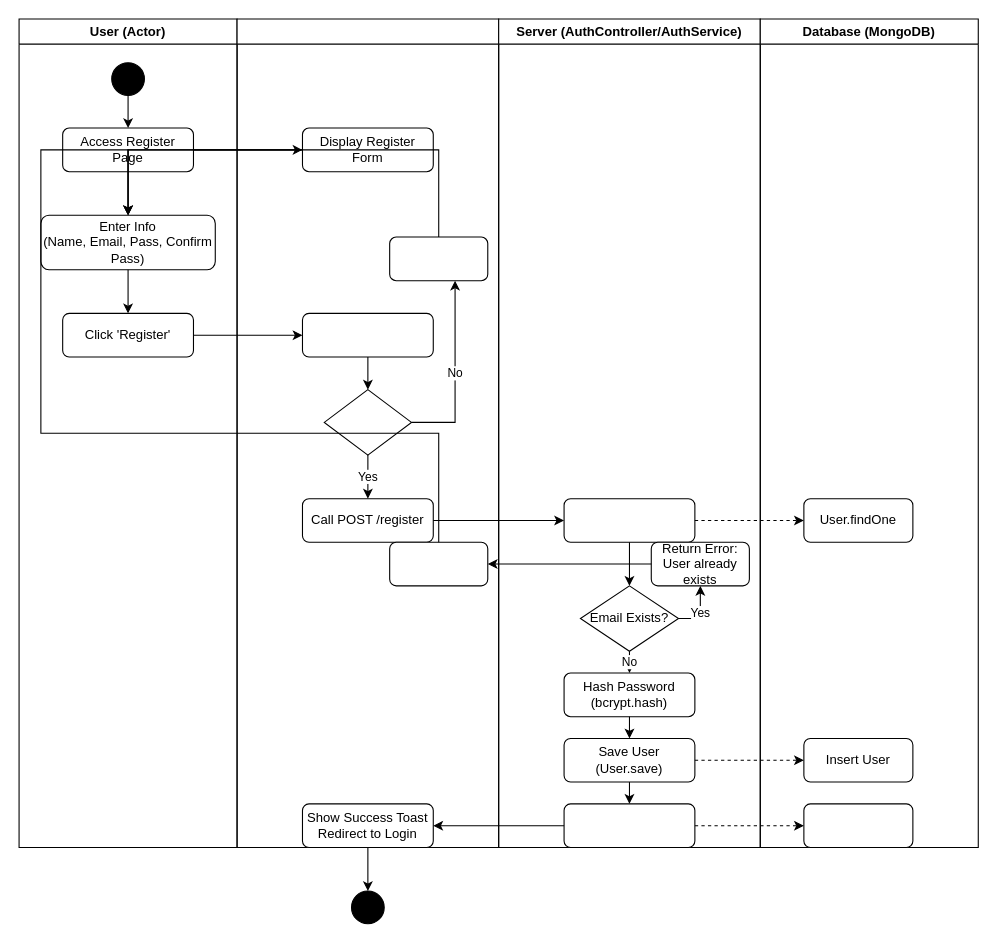
This 997x943 diagram has some shape labels left out. The shapes that lost their labels are listed below. From the top down, each one's box as (x1, y1, x2, y2) in pixels, then its label:
(389, 236, 488, 281): Show Error: Pass Mismatch
(301, 312, 433, 357): Validate Input (Pass match?)
(323, 389, 411, 455): Valid?
(236, 18, 499, 847): Client (RegisterForm)
(563, 498, 695, 542): authService.register Check Email Exists
(389, 541, 488, 586): Show Error: Email Exists
(563, 803, 695, 847): Save Profile (UserProfile.save)
(803, 803, 913, 847): Insert Profile
